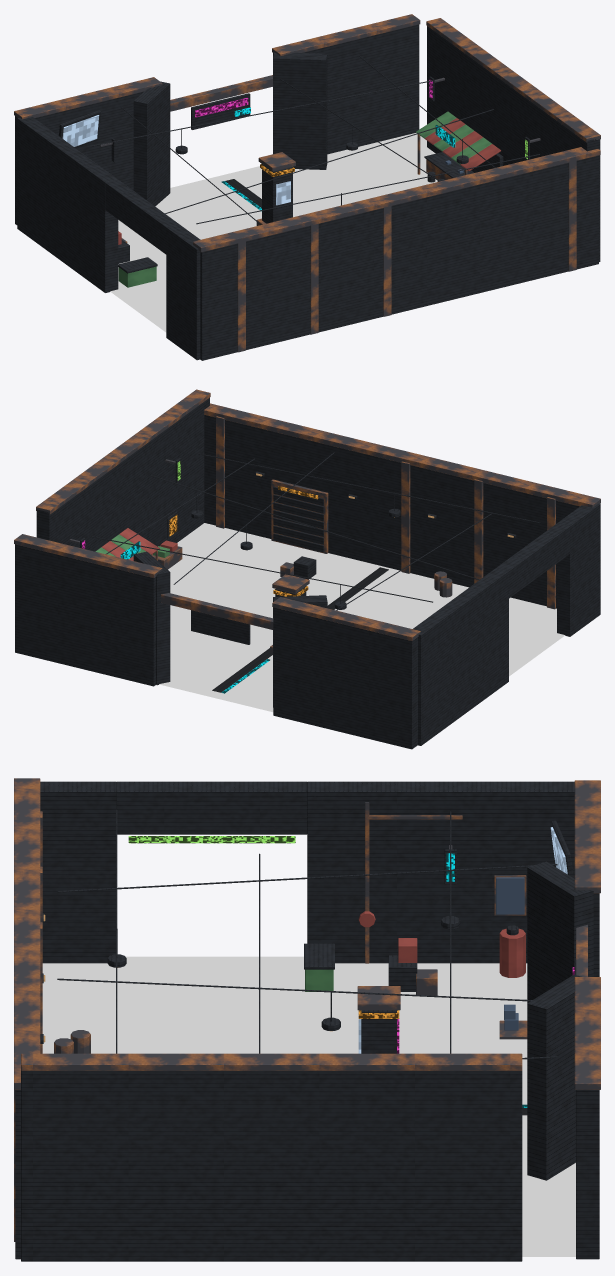
Rendered from Hesperus_SouthPlaza.glb.
3 views of the same model, one above another, from view 1: azimuth 30°, elevation 25°; view 2: azimuth 150°, elevation 25°; view 3: azimuth 270°, elevation 25° (orthographic). The views are drawn at different scales.
Visible parts, largest first — view 1: PLZ_Wall_S, PLZ_Plate_Floor, PLZ_Wall_W_N, PLZ_Funnel_E, PLZ_Wall_E, PLZ_Funnel_ChamferE, PLZ_Wall_S_Cap, PLZ_Wall_W_S, PLZ_Funnel_ChamferW, PLZ_Funnel_W, PLZ_Wall_E_Cap, PLZ_RampGap_Header (+17 smaller); view 2: PLZ_Wall_S, PLZ_Plate_Floor, PLZ_Funnel_W, PLZ_Funnel_E, PLZ_Wall_E, PLZ_Wall_W_N, PLZ_Wall_S_Cap, PLZ_Wall_W_S, PLZ_Plate_FloorDirty, PLZ_Wall_E_Cap, PLZ_RampGap_Header, PLZ_Funnel_ChamferE (+14 smaller); view 3: PLZ_Wall_E, PLZ_Wall_W_N, PLZ_Plate_Floor, PLZ_Wall_W_S, PLZ_RampGap_Header, PLZ_Wall_E_Cap, PLZ_Funnel_ChamferE, PLZ_Wall_S_Cap, PLZ_Funnel_ChamferW, PLZ_Plate_FloorDirty, PLZ_Funnel_E, PLZ_Funnel_E_Cap (+13 smaller).
Boxes of the visible parts, box(x1,y1,x2,y2) form: PLZ_Wall_S: box(200, 155, 598, 360); PLZ_Plate_Floor: box(110, 133, 437, 324); PLZ_Wall_W_N: box(17, 117, 118, 292); PLZ_Funnel_E: box(273, 24, 419, 154); PLZ_Wall_E: box(427, 26, 600, 261); PLZ_Funnel_ChamferE: box(273, 52, 327, 169); PLZ_Wall_S_Cap: box(193, 147, 600, 252); PLZ_Wall_W_S: box(166, 224, 200, 360); PLZ_Funnel_ChamferW: box(133, 81, 170, 206); PLZ_Funnel_W: box(15, 91, 143, 224); PLZ_Wall_E_Cap: box(426, 18, 600, 142); PLZ_RampGap_Header: box(105, 179, 178, 254); PLZ_Wall_S: box(204, 415, 579, 608); PLZ_Plate_Floor: box(159, 523, 556, 707); PLZ_Funnel_W: box(273, 607, 417, 749); PLZ_Funnel_E: box(15, 544, 155, 686); PLZ_Wall_E: box(36, 397, 209, 551); PLZ_Wall_W_N: box(413, 568, 508, 745); PLZ_Wall_S_Cap: box(204, 403, 600, 507); PLZ_Wall_W_S: box(557, 503, 600, 636); PLZ_Plate_FloorDirty: box(170, 530, 565, 712); PLZ_Wall_E_Cap: box(36, 389, 210, 514); PLZ_RampGap_Header: box(496, 523, 569, 598); PLZ_Funnel_ChamferE: box(133, 551, 170, 685); PLZ_Wall_E: box(21, 1070, 522, 1261); PLZ_Wall_W_N: box(307, 781, 574, 963); PLZ_Plate_Floor: box(42, 956, 575, 1256); PLZ_Wall_W_S: box(40, 781, 116, 963); PLZ_RampGap_Header: box(116, 781, 307, 834); PLZ_Wall_E_Cap: box(21, 1053, 522, 1070); PLZ_Funnel_ChamferE: box(527, 974, 581, 1180); PLZ_Wall_S_Cap: box(14, 778, 40, 1089); PLZ_Funnel_ChamferW: box(527, 861, 593, 1003); PLZ_Plate_FloorDirty: box(94, 956, 527, 1076); PLZ_Funnel_E: box(576, 1090, 599, 1259); PLZ_Funnel_E_Cap: box(574, 977, 600, 1089).
Bounding box in the file's own units: 30.55 × 9.16 × 24.6.
14 materials, 11 textured.
